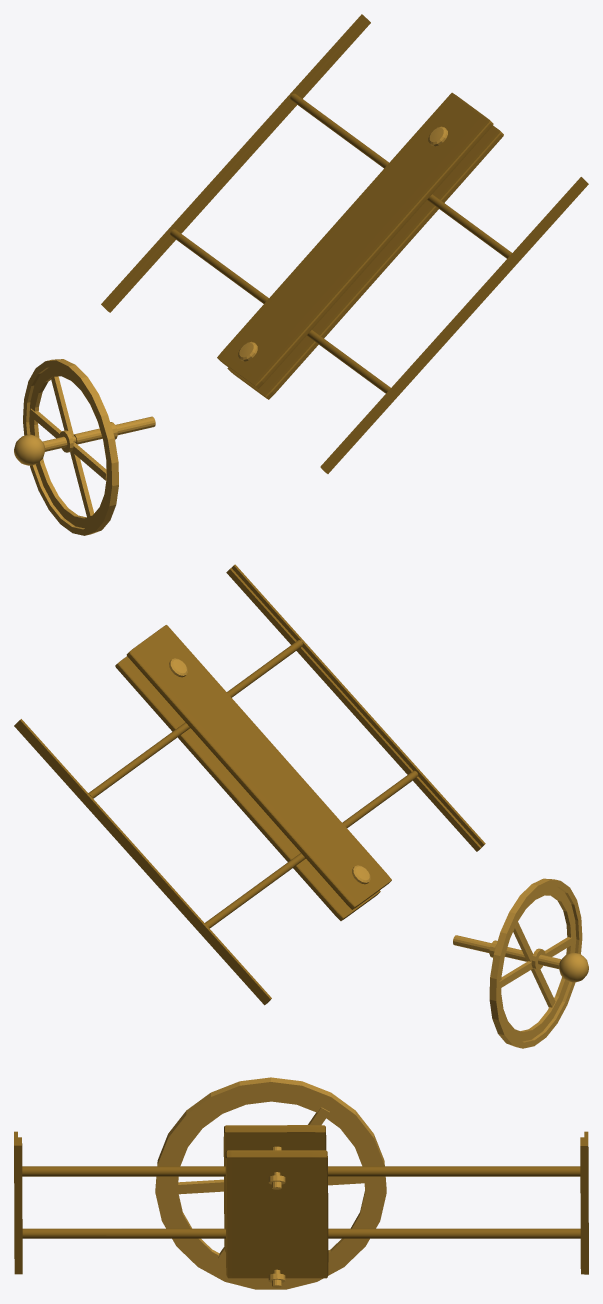
File: pingyi.fbx
The picture shows the model from 3 angles, top to bottom: view 1: azimuth 30°, elevation 25°; view 2: azimuth 150°, elevation 25°; view 3: azimuth 270°, elevation 25°; orthographic projection. The views are drawn at different scales.
Parts seen in each view (by area): view 1: 柱体.002, 立方体.068; view 2: 柱体.002, 立方体.068; view 3: 柱体.002, 立方体.068.
Part boxes in pixels (<box>): 柱体.002: <box>14,92,503,535</box>; 立方体.068: <box>101,14,588,473</box>; 柱体.002: <box>115,625,588,1048</box>; 立方体.068: <box>14,564,485,1005</box>; 柱体.002: <box>155,1077,386,1289</box>; 立方体.068: <box>14,1131,588,1274</box>.
Size of the model in its own units: 259 by 169 by 211.
